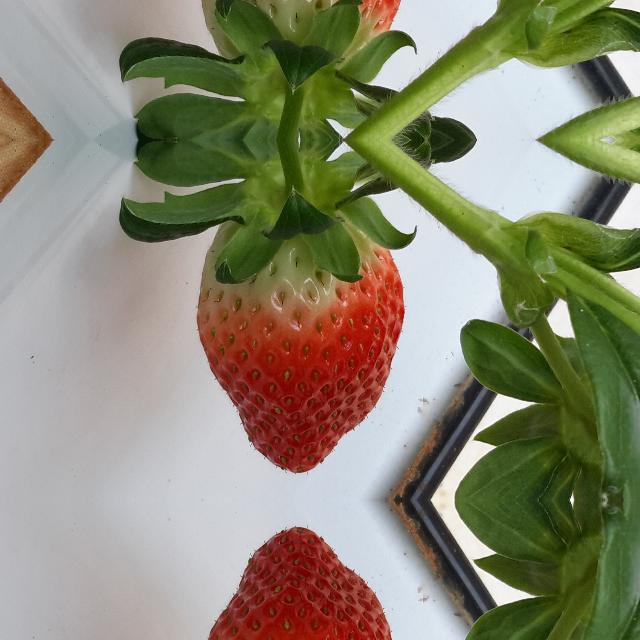Health_75: (197, 211, 405, 473), (197, 527, 405, 640), (197, 0, 405, 69)
